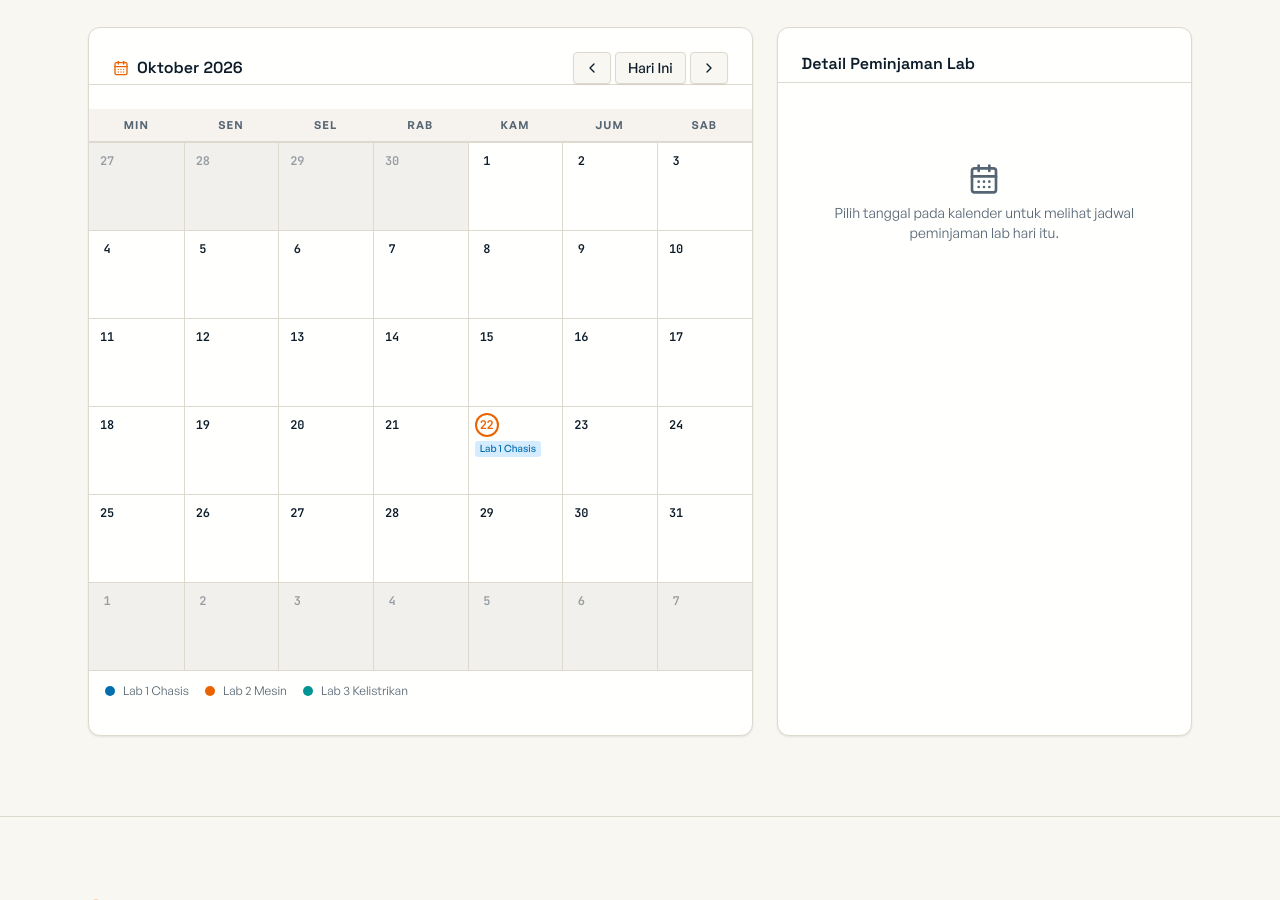
Test: Beranda kalender lab › shows the booking detail when a date is clicked
The width and height of the screenshot is (1280, 900).
(page scrolled)
Click the button "22 Lab 1 Chasis" at (515, 450), box [468, 406, 562, 494]
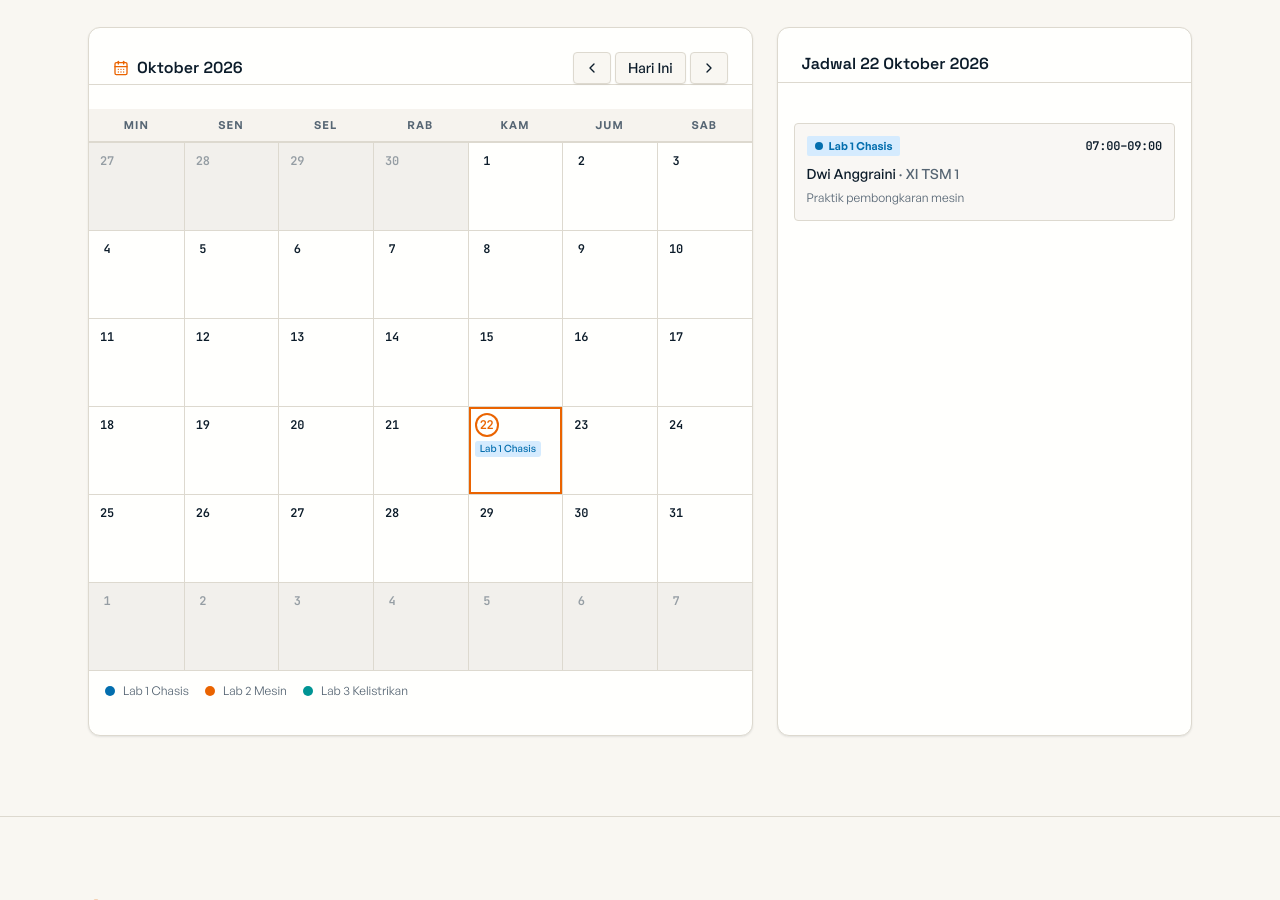
Check: the element with test id "beranda.kalender.detail_panel" shows "Dwi Anggraini", box [807, 165, 896, 182]
Check: the element with test id "beranda.kalender.detail_panel" shows "07:00–09:00", box [777, 26, 1192, 736]
Check: the element with test id "beranda.kalender.detail_panel" shows "Praktik pembongkaran mesin", box [807, 190, 964, 205]
